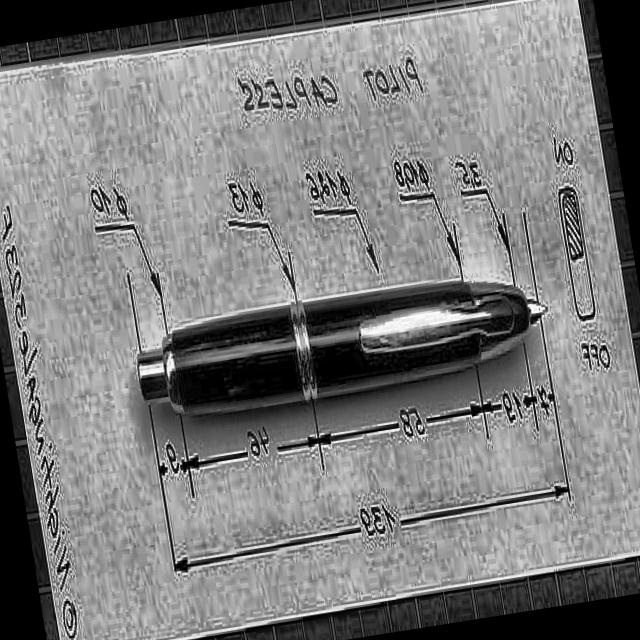Pen: (140, 282, 544, 422)
